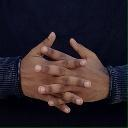hand: (18, 31, 92, 115), (34, 38, 111, 106)
